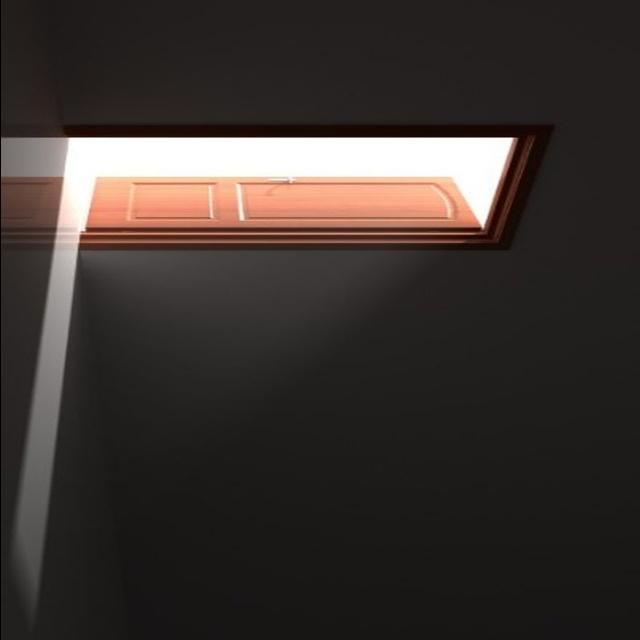open: (76, 134, 496, 244)
